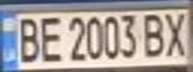0: (84, 12, 106, 61), (103, 12, 124, 61)
2: (63, 12, 87, 62)
3: (118, 11, 142, 60)
B: (12, 13, 42, 64), (139, 10, 169, 58)
E: (36, 12, 63, 63)
X: (160, 9, 193, 58)
